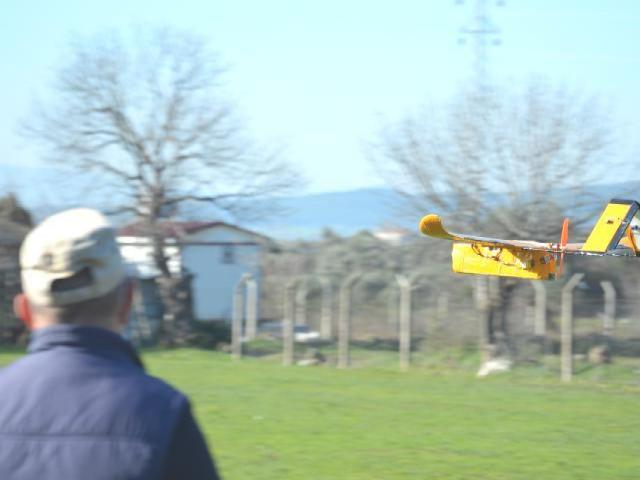iha: (405, 191, 639, 284)
